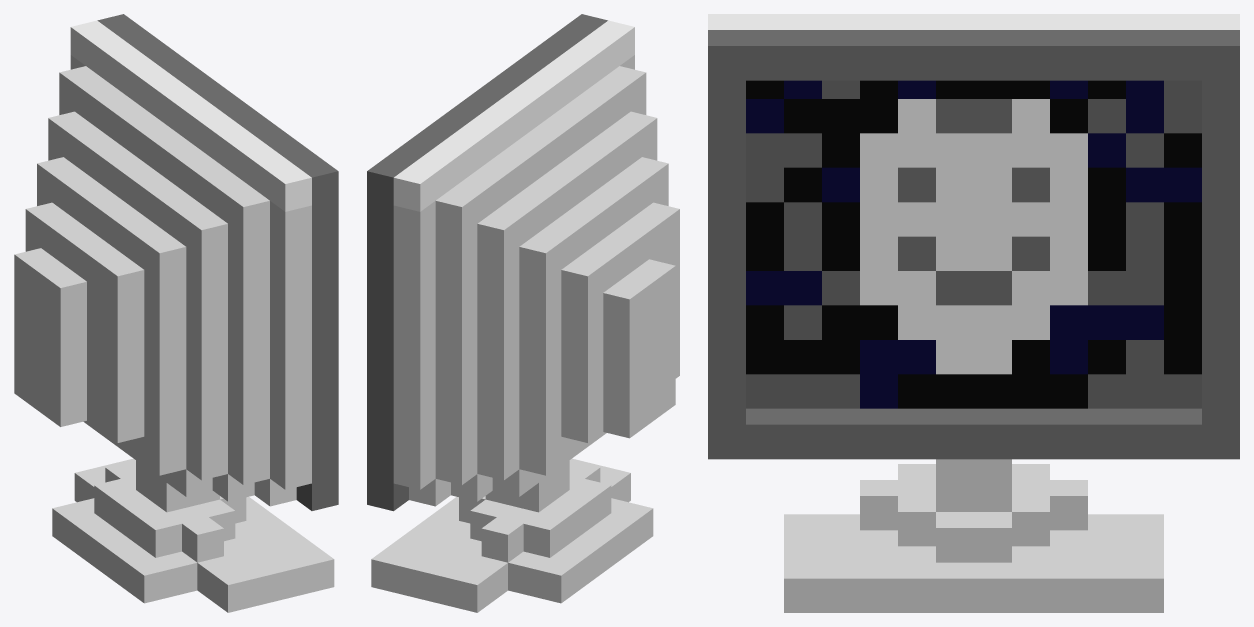
Rendered from computer.obj.
3 views of the same model, side by side, from view 1: azimuth 30°, elevation 25°; view 2: azimuth 150°, elevation 25°; view 3: azimuth 270°, elevation 25° (orthographic). The views are drawn at different scales.
Bounding box in the file's own units: 0.8 × 1.6 × 1.4.
